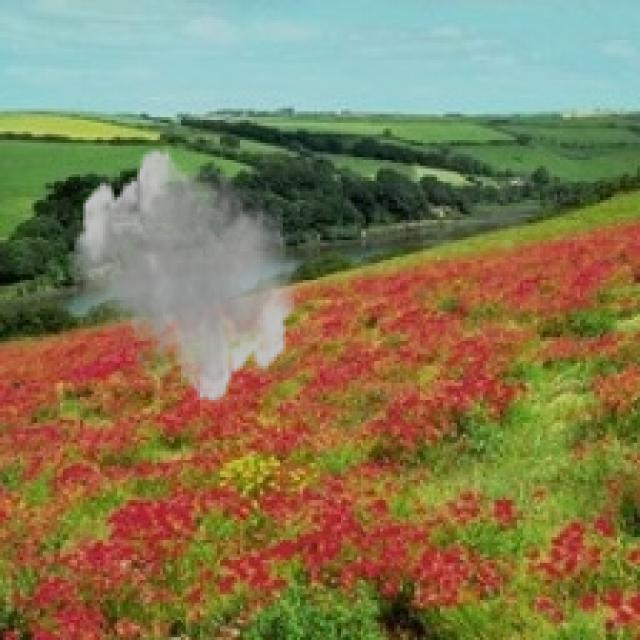smoke: (69, 146, 300, 406)
